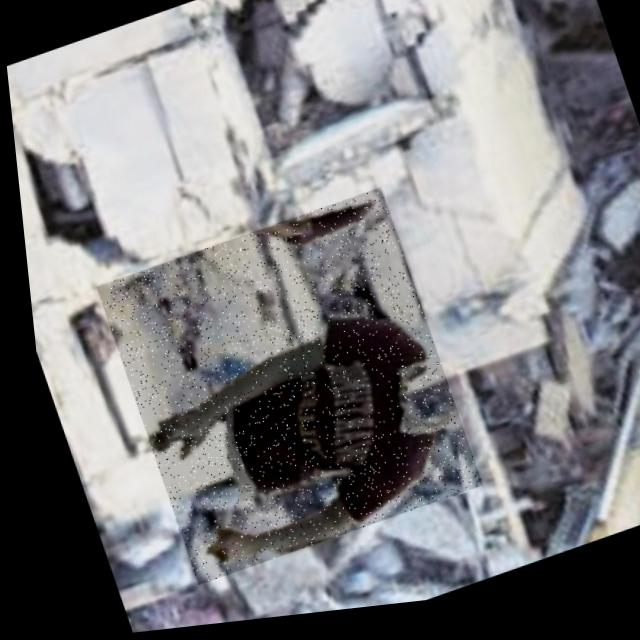Person in Rubble: (83, 189, 475, 594)
